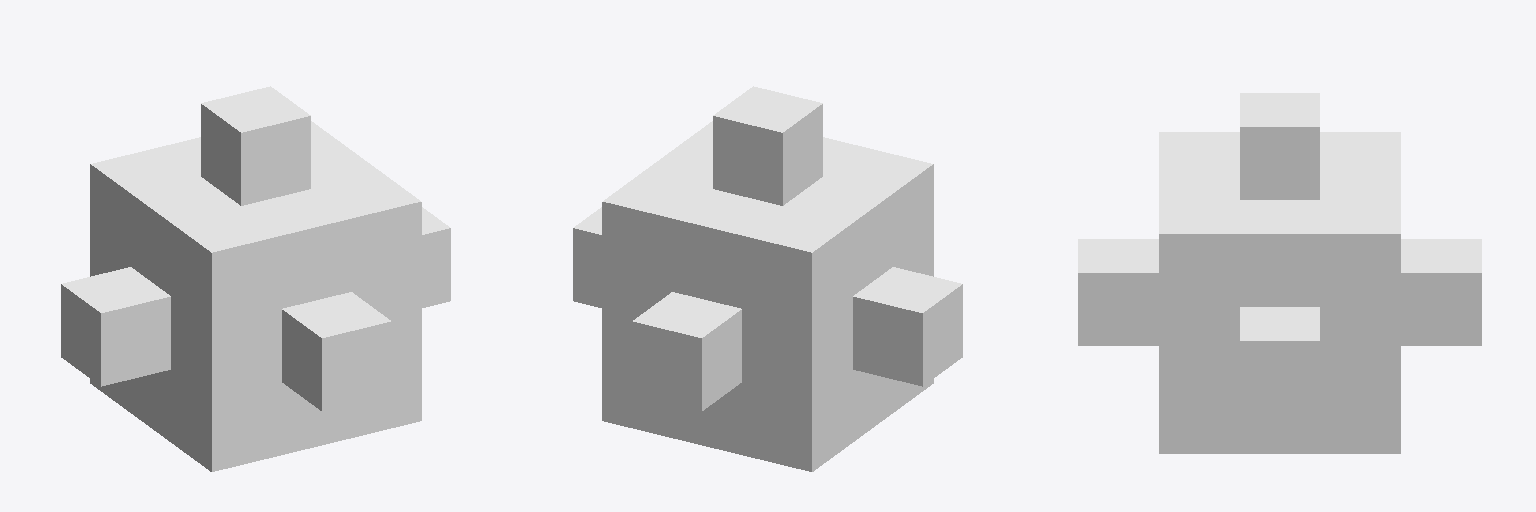
Rendered from ash.obj.
3 views of the same model, side by side, from view 1: azimuth 30°, elevation 25°; view 2: azimuth 150°, elevation 25°; view 3: azimuth 270°, elevation 25° (orthographic).
Parts seen in each view (by area): view 1: ash; view 2: ash; view 3: ash.
Boxes of the visible parts, x1,y1,x2,y2 form: ash: [61, 86, 450, 471]; ash: [573, 86, 962, 471]; ash: [1078, 93, 1481, 453].
Size of the model in its own units: 5 by 4 by 5.